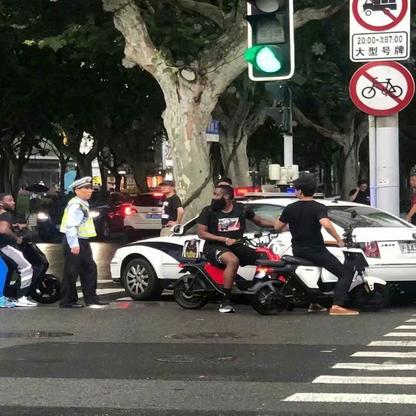target: (170, 184, 290, 315), (281, 174, 389, 312)
